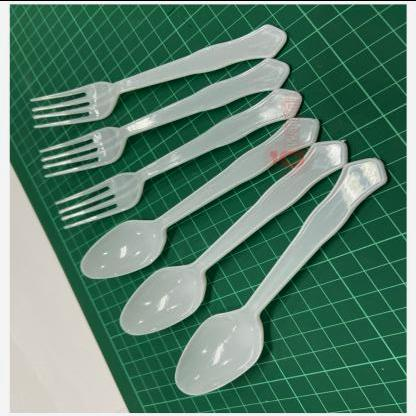Others: (30, 23, 388, 397)
